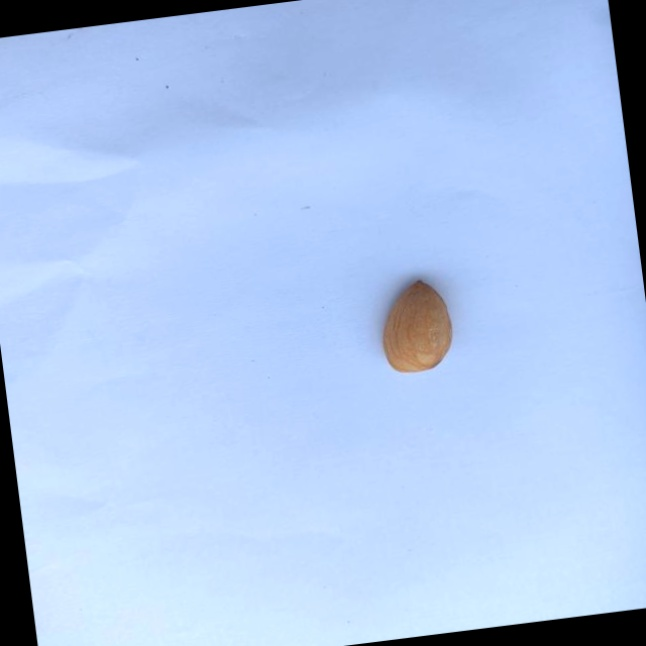grade2: (368, 274, 461, 380)
